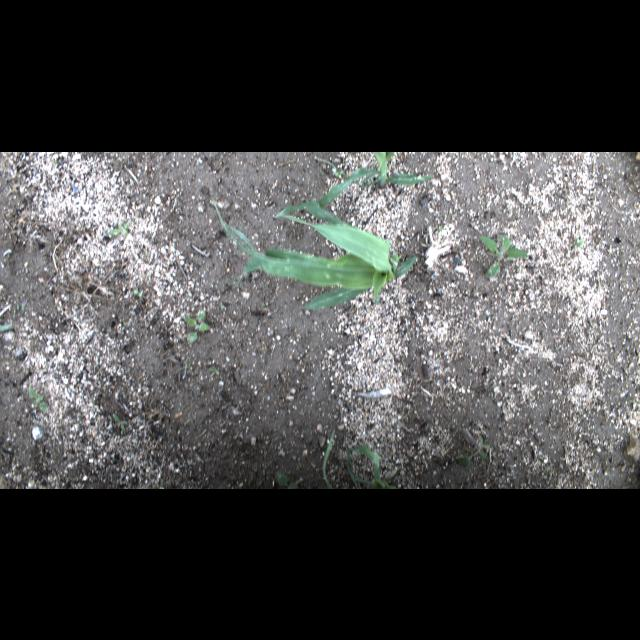crop: (212, 198, 420, 310), (317, 152, 435, 206), (344, 436, 394, 486), (321, 427, 337, 488)
weed: (476, 230, 528, 280), (178, 306, 215, 344), (456, 436, 498, 466), (105, 218, 134, 236), (26, 388, 48, 410), (110, 412, 130, 433), (8, 298, 26, 318), (178, 358, 196, 376), (275, 473, 301, 485), (568, 234, 584, 252), (128, 285, 150, 297), (204, 366, 223, 378), (0, 320, 16, 334)
